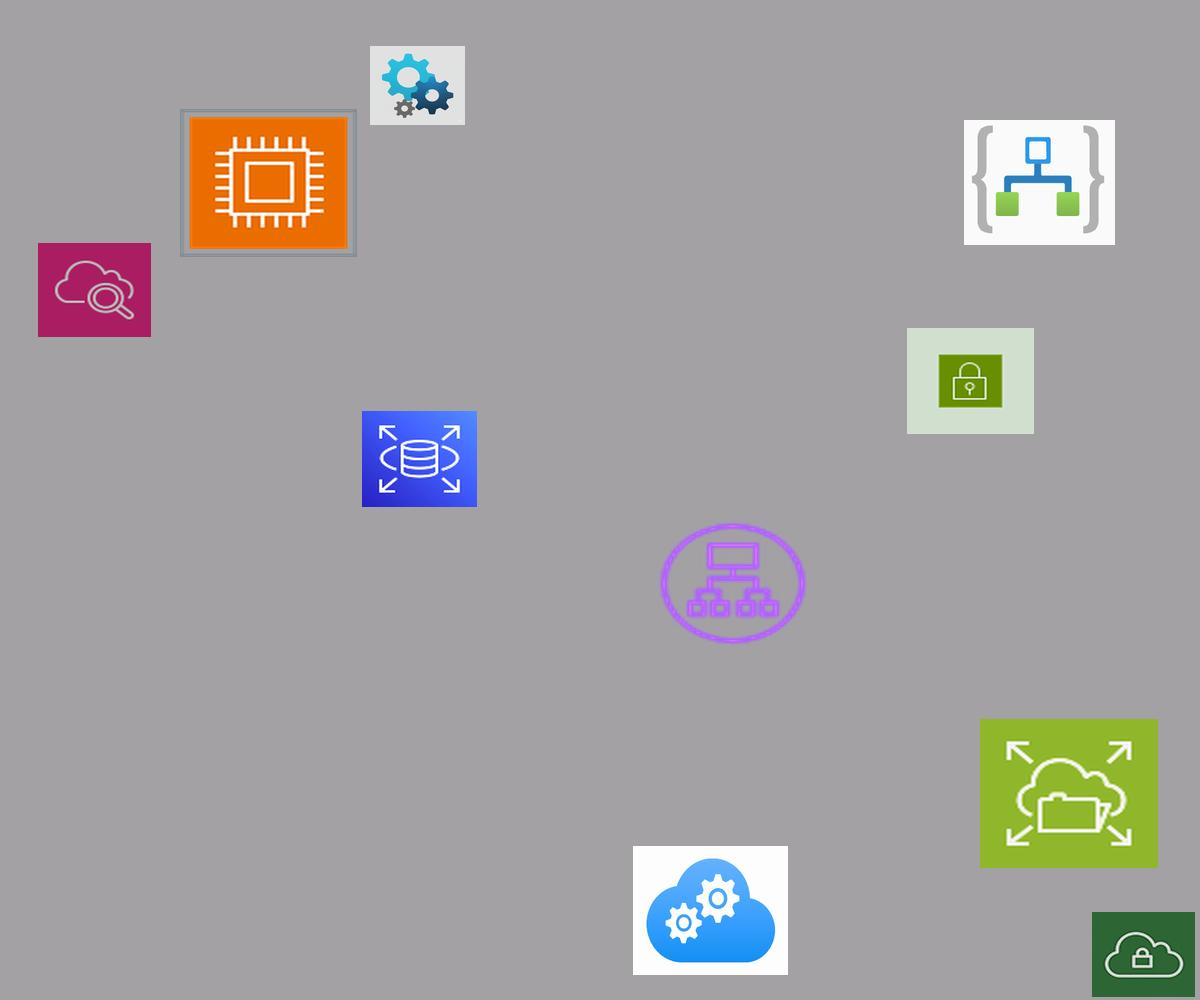AWS-Category_Compute: (180, 109, 357, 257)
AWS-CloudWatch: (38, 243, 151, 337)
AWS-EFS: (980, 719, 1158, 868)
AWS-Private_vpc: (1092, 912, 1195, 997)
AWS-Public-subnet: (907, 328, 1034, 434)
AWS-RDS: (362, 411, 477, 507)
AWS-Res_Elastic-Load-Balancing_Application-Load-Balancer: (654, 518, 812, 649)
Azure_api: (370, 46, 465, 125)
Azure_cloud_services: (633, 846, 788, 975)
Azure_integration-204-Logic-Apps: (964, 120, 1115, 245)
